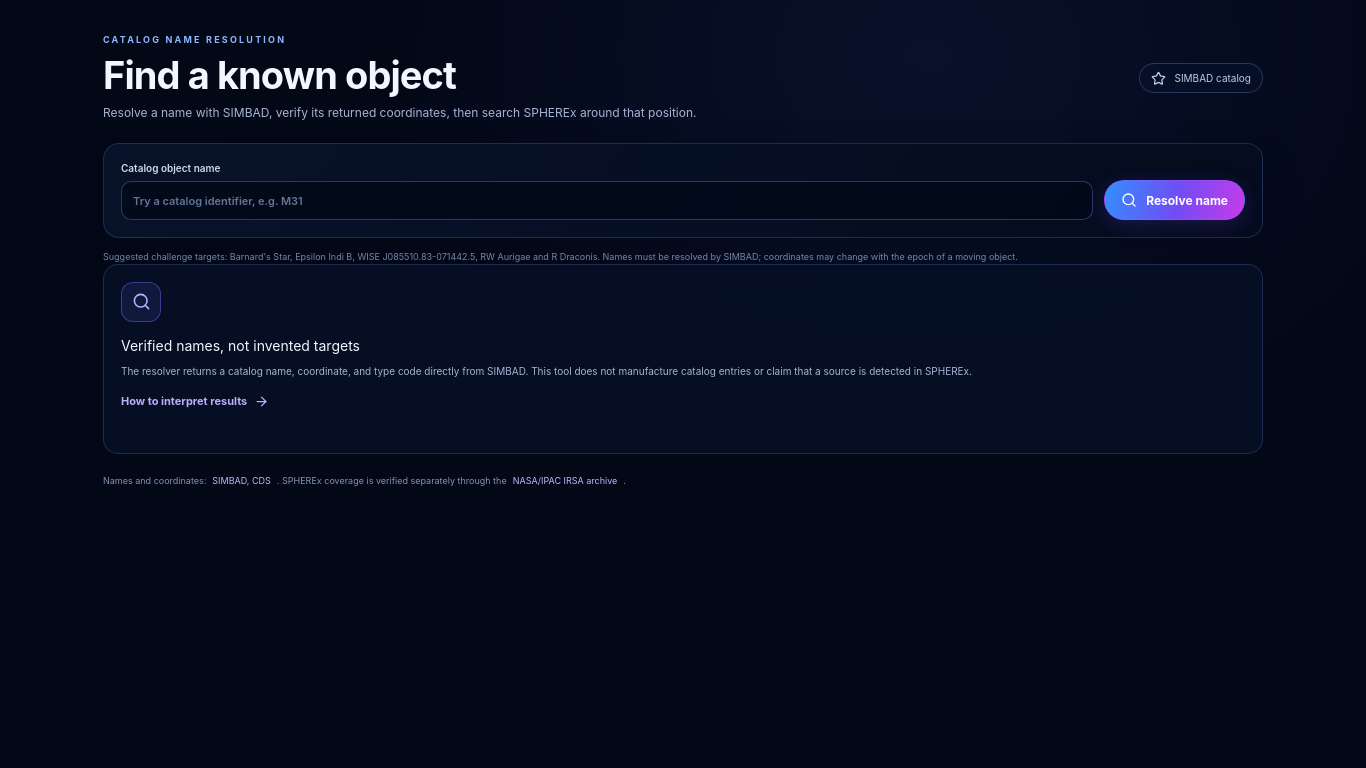
filters only objects resolved in this session by their returned type and name
Type "First" into the search field labelled "Catalog object name".
click(607, 201); type("First")  # box [121, 181, 1093, 220]
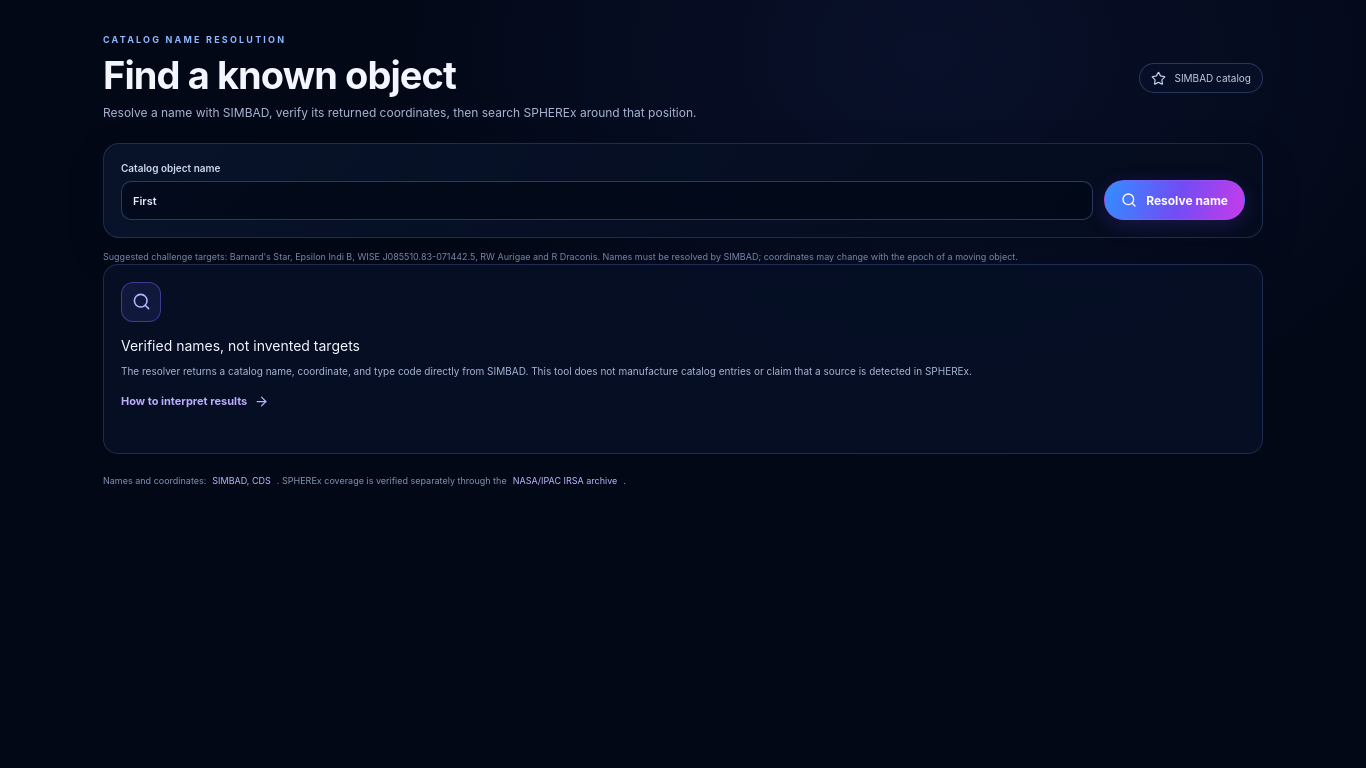
Click the button "Resolve name".
click(1175, 200)  # box [1104, 180, 1245, 220]
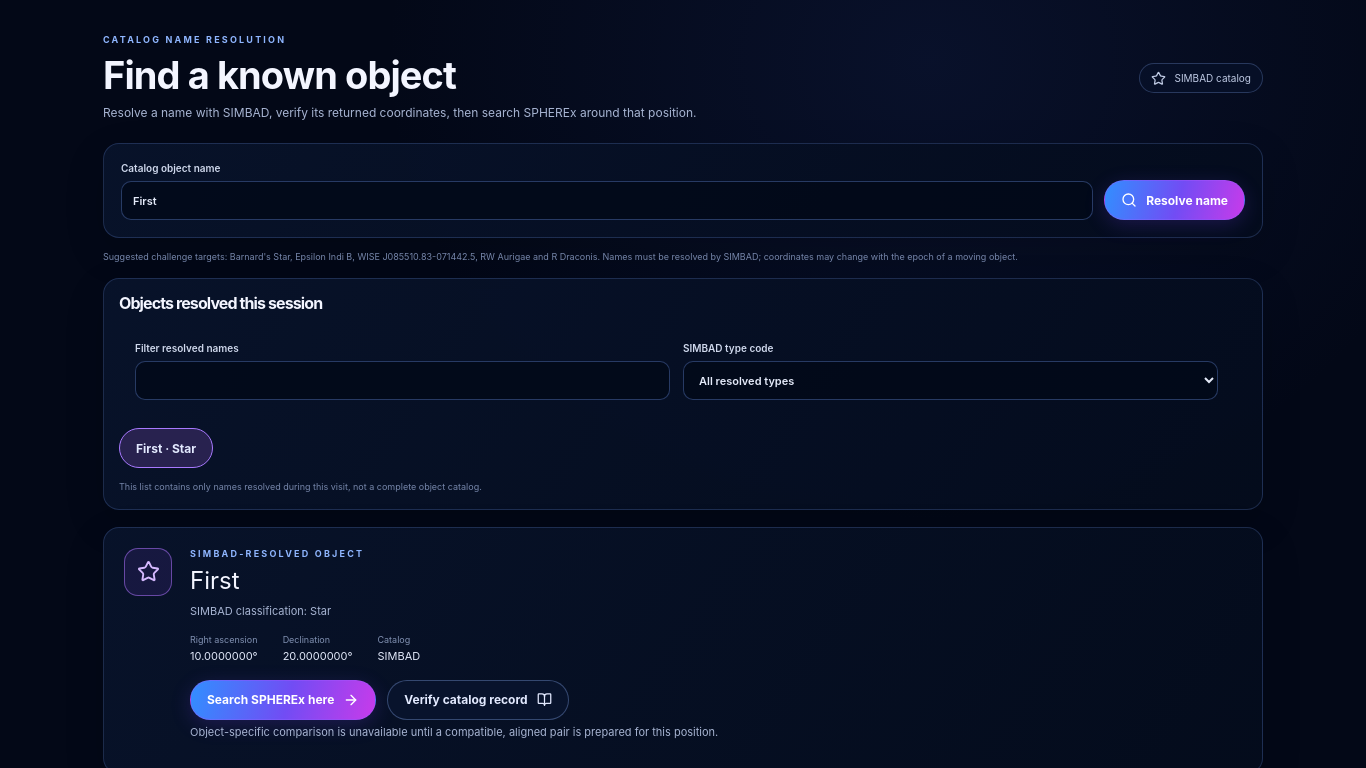
Result: the heading "First" is shown at [190, 566, 240, 595]
Replace the text in the search field labelled "Catalog object name" with "Second" at (607, 201), box [121, 181, 1093, 220]
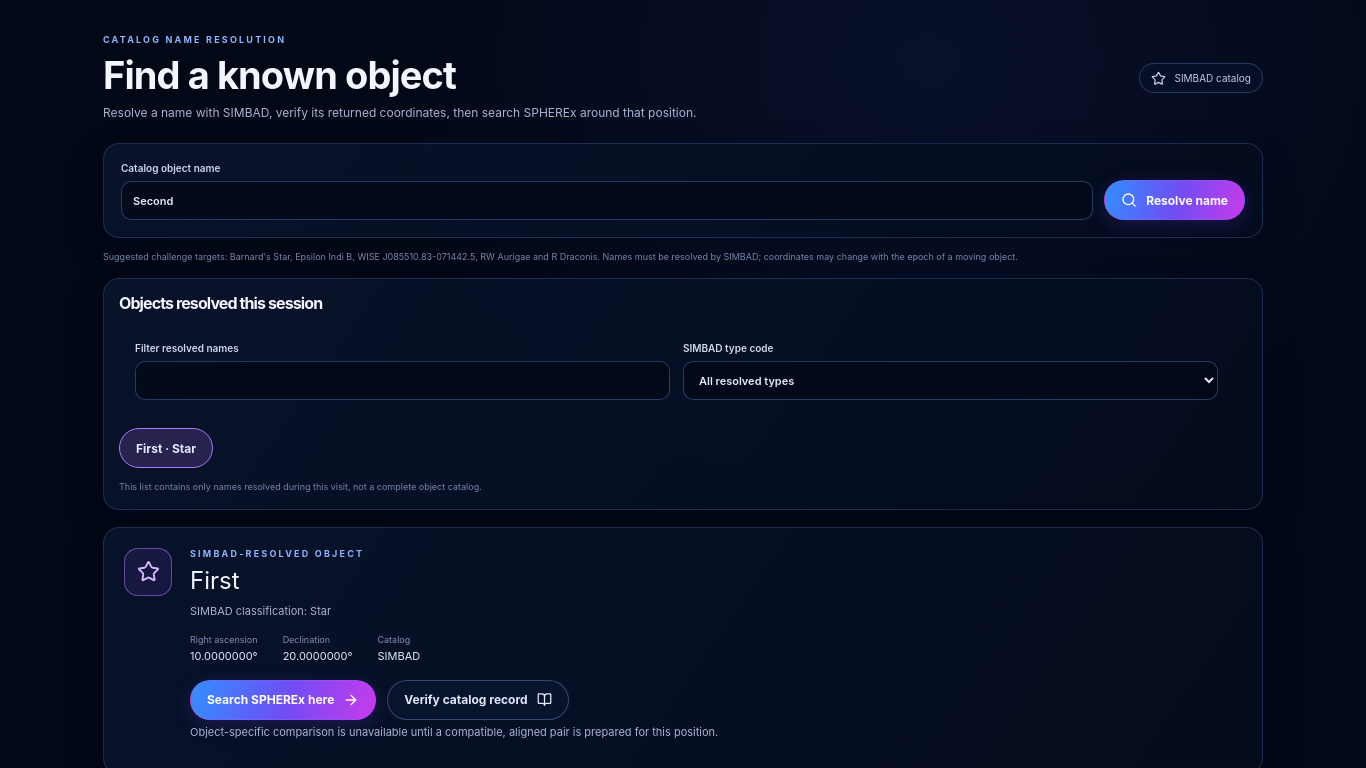
Click the button "Resolve name".
click(1175, 200)  # box [1104, 180, 1245, 220]
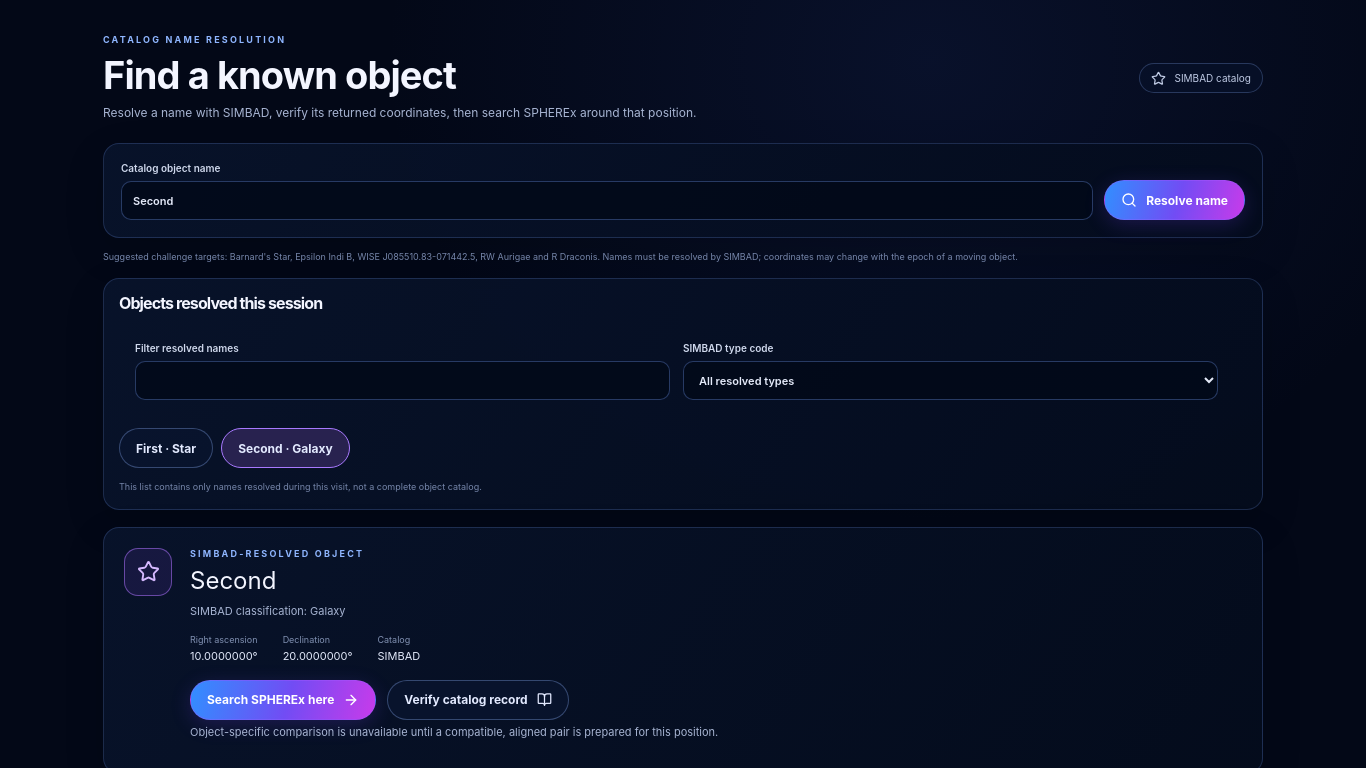
Result: the heading "Second" is shown at [190, 566, 276, 595]
Select "Star" in the dropdown labelled "SIMBAD type code" at (950, 381), box [683, 361, 1218, 400]
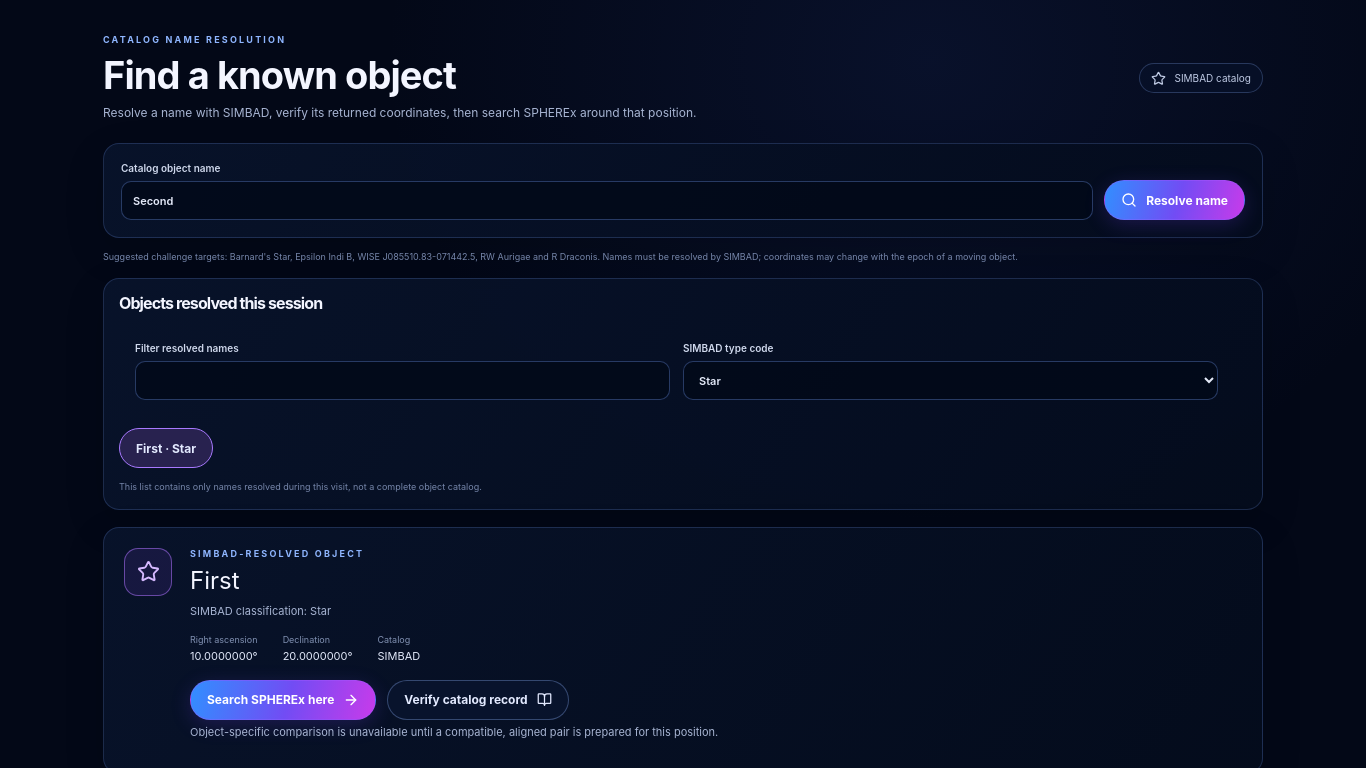
Result: the heading "First" is shown at [190, 566, 240, 595]
Type "missing" into the search field labelled "Filter resolved names".
click(402, 381); type("missing")  # box [135, 361, 670, 400]
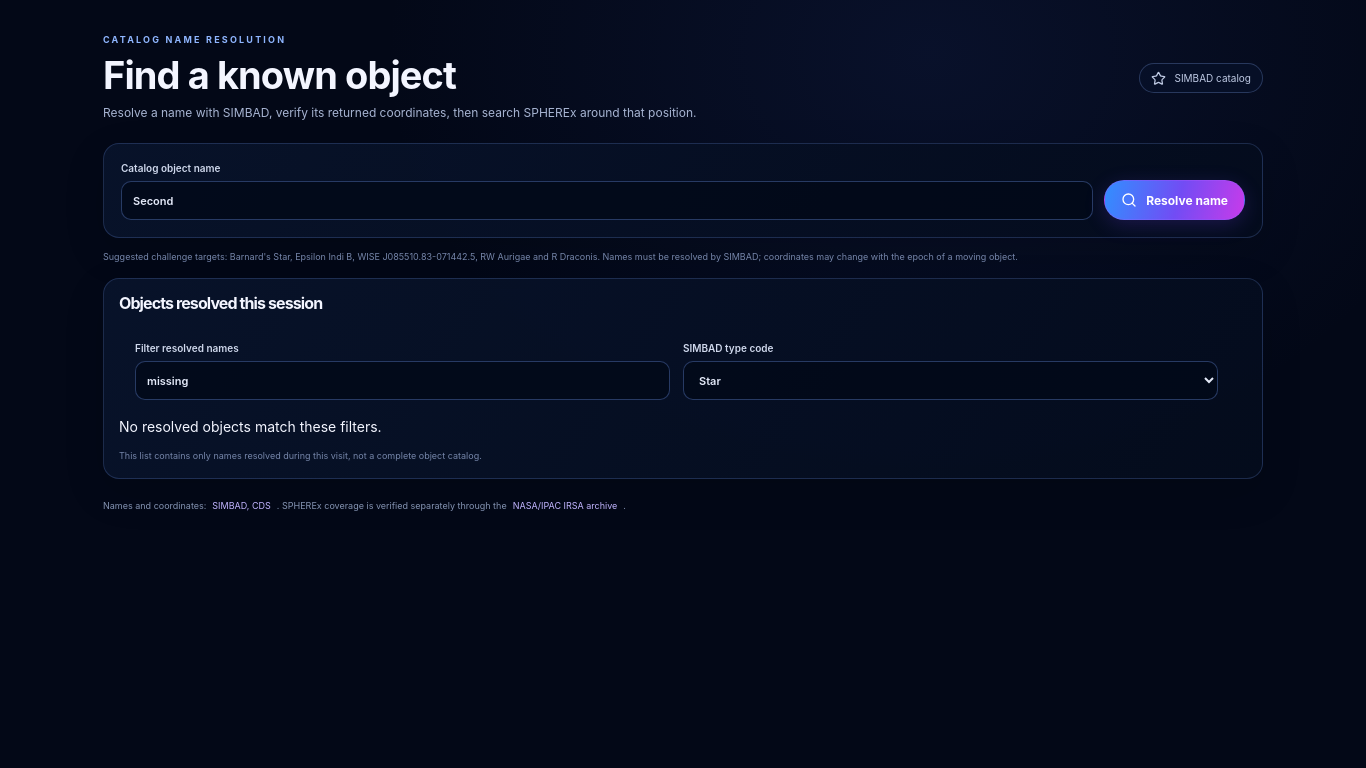
Result: the text "No resolved objects match these filters." is shown at [119, 418, 382, 435]
